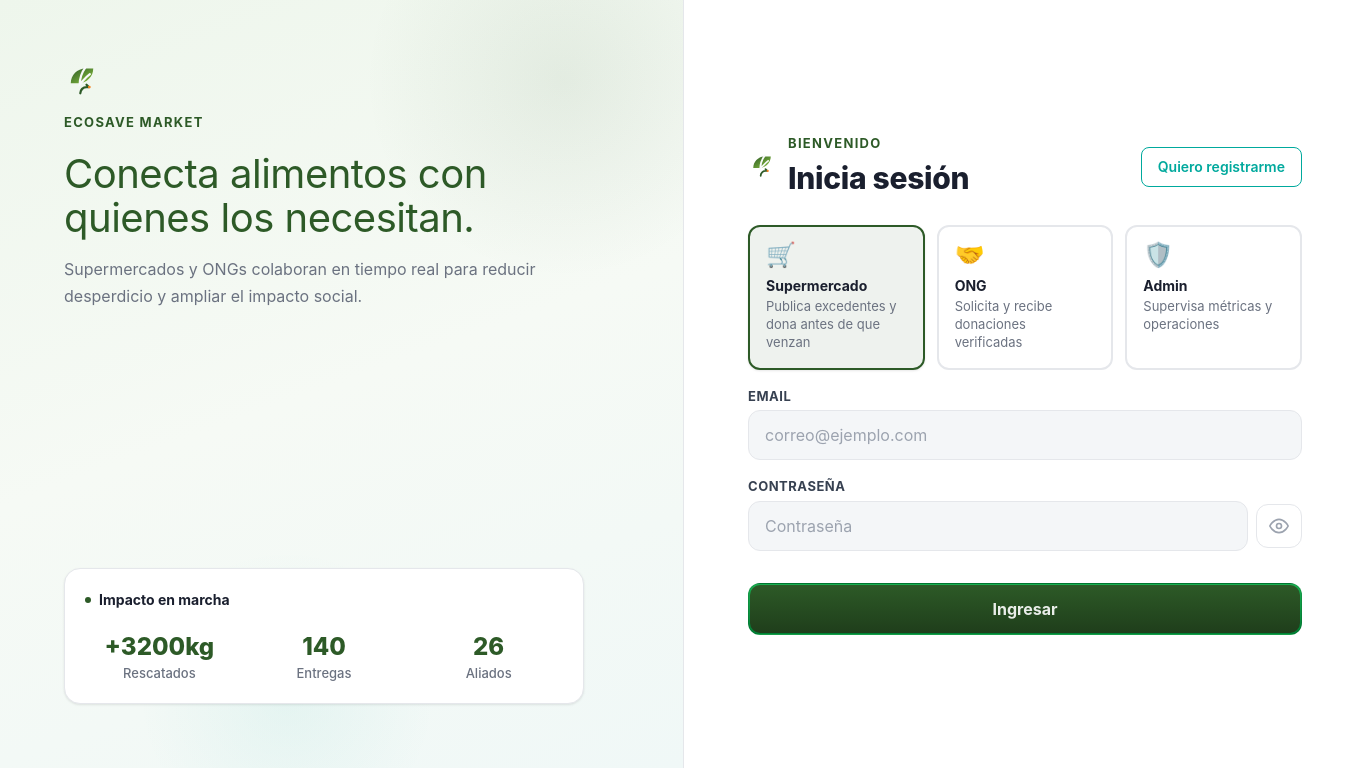
Test case: AuthForm — cambio de pestaña › al hacer clic en "Quiero registrarme" muestra el heading de registro
This screenshot has width=1366, height=768.
Click the button "Quiero registrarme": (1221, 167) x1=1141 y1=147 x2=1302 y2=187
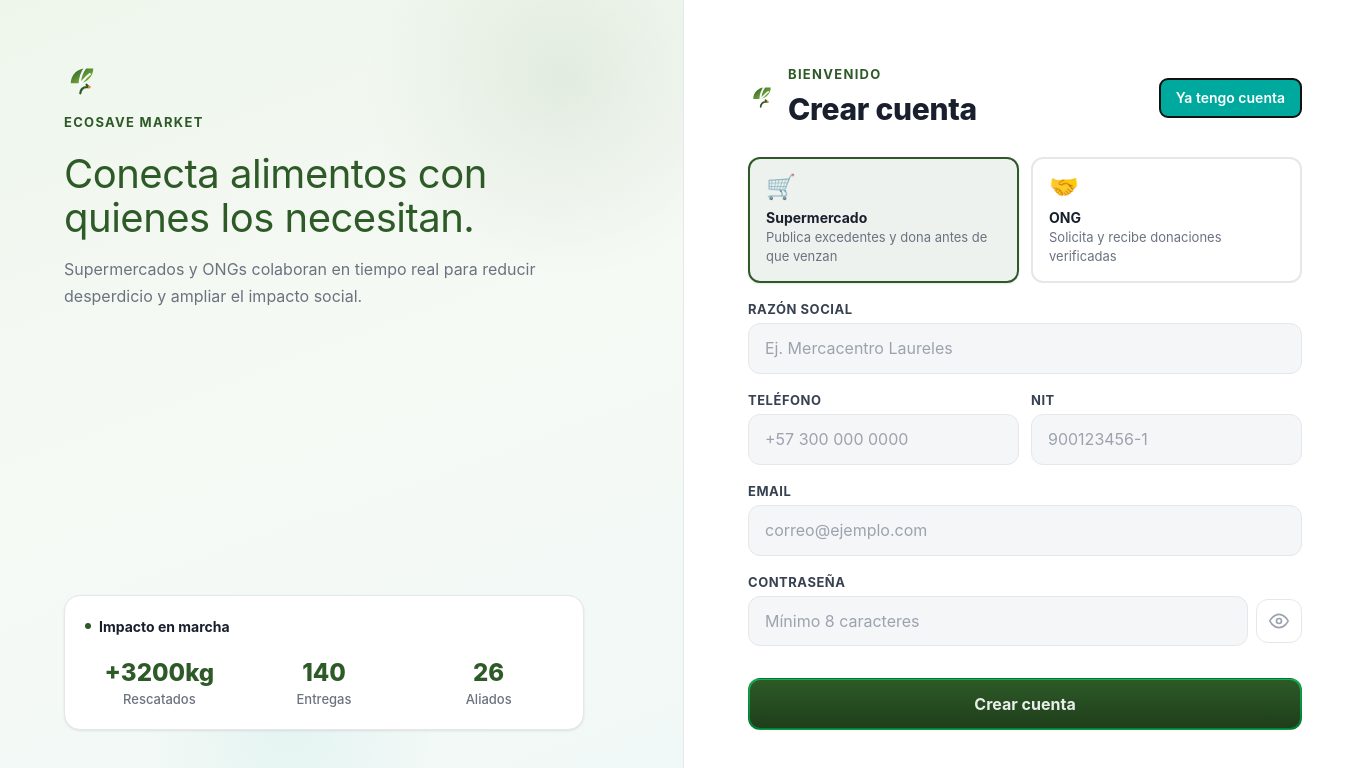
Expected: the heading "Crear cuenta" is shown, x1=788 y1=91 x2=977 y2=127
